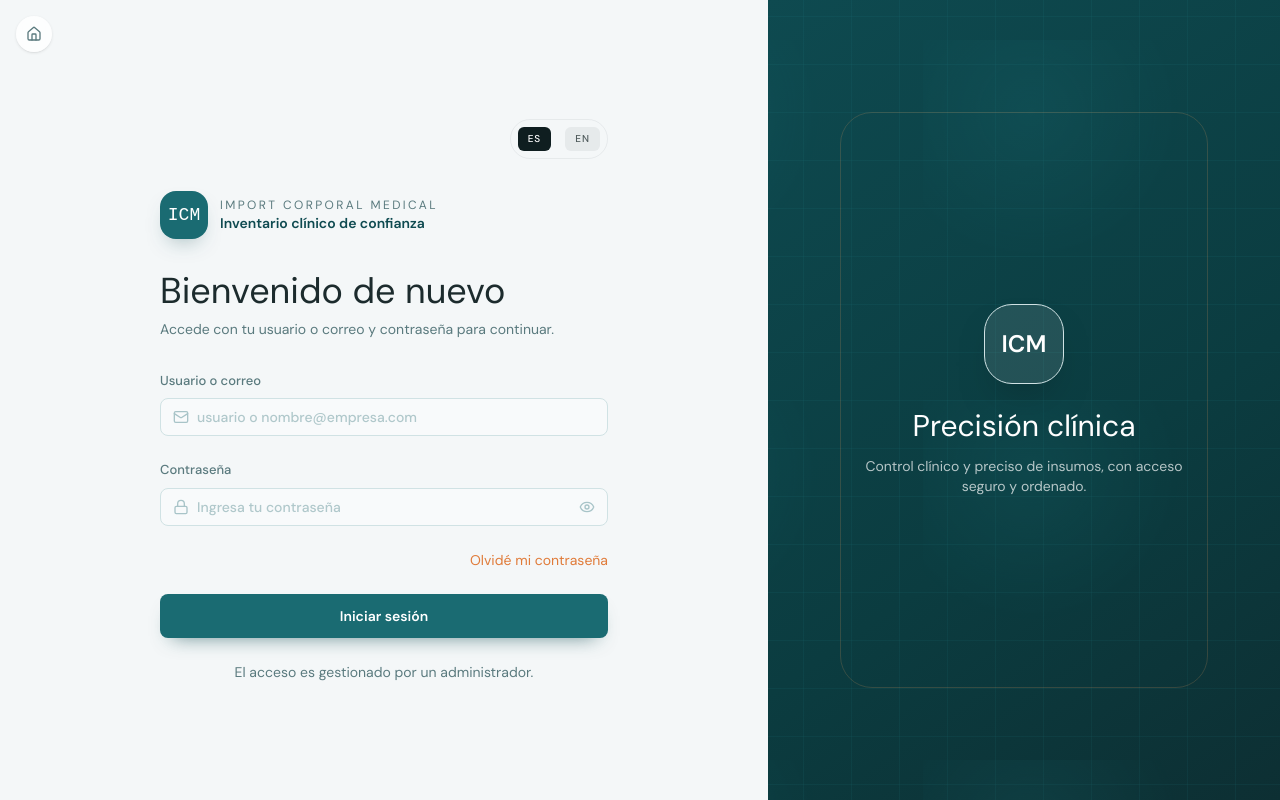
Test case: LoginPage — integración › Validaciones del formulario › debería mostrar error si la contraseña es muy corta
The width and height of the screenshot is (1280, 800).
Type "admin@icm.com" into the field labelled "Usuario o correo" at point(396, 417), box [197,407,595,427]
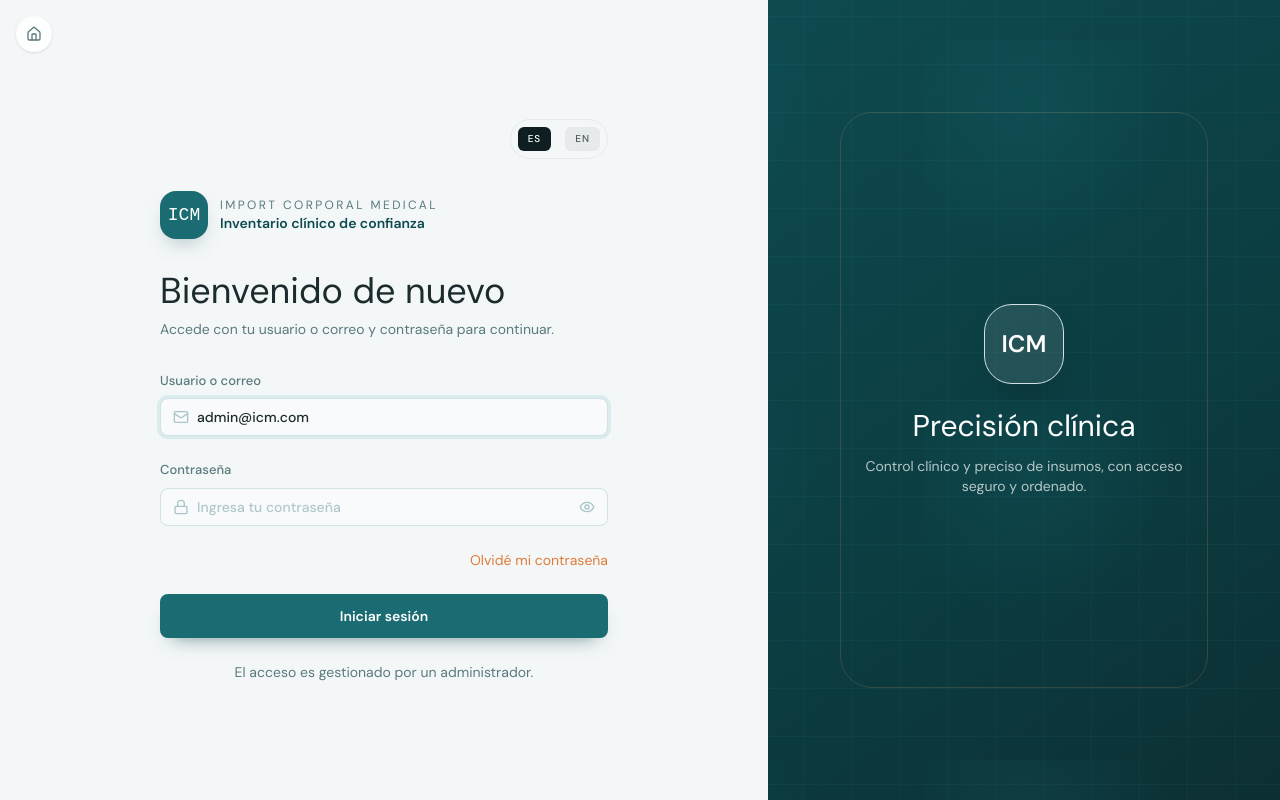
Type "short" into the password field labelled "Contraseña" at point(384, 506), box [197,496,571,516]
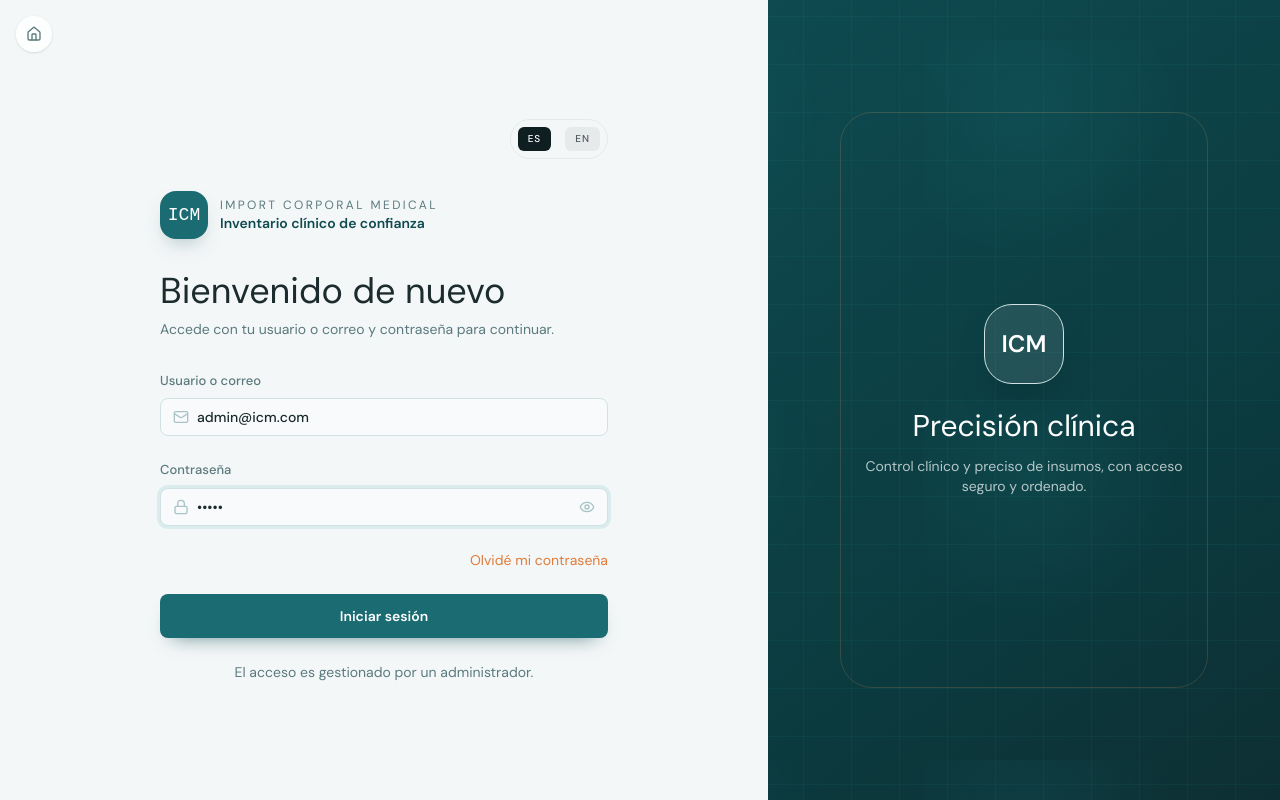
Click the button "Iniciar sesión" at point(384, 616), box [160,594,608,638]
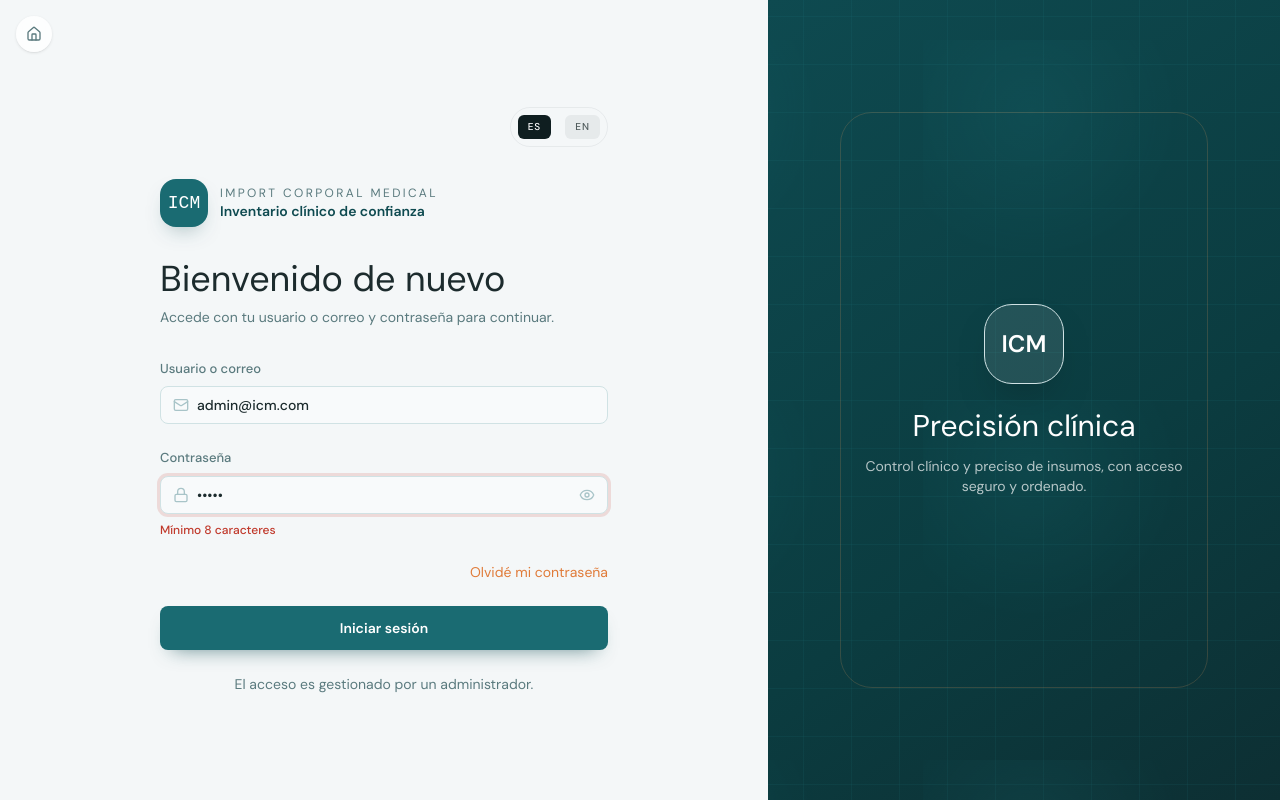
expect the text "Mínimo 8 caracteres" is shown: met, box [160,522,276,538]
